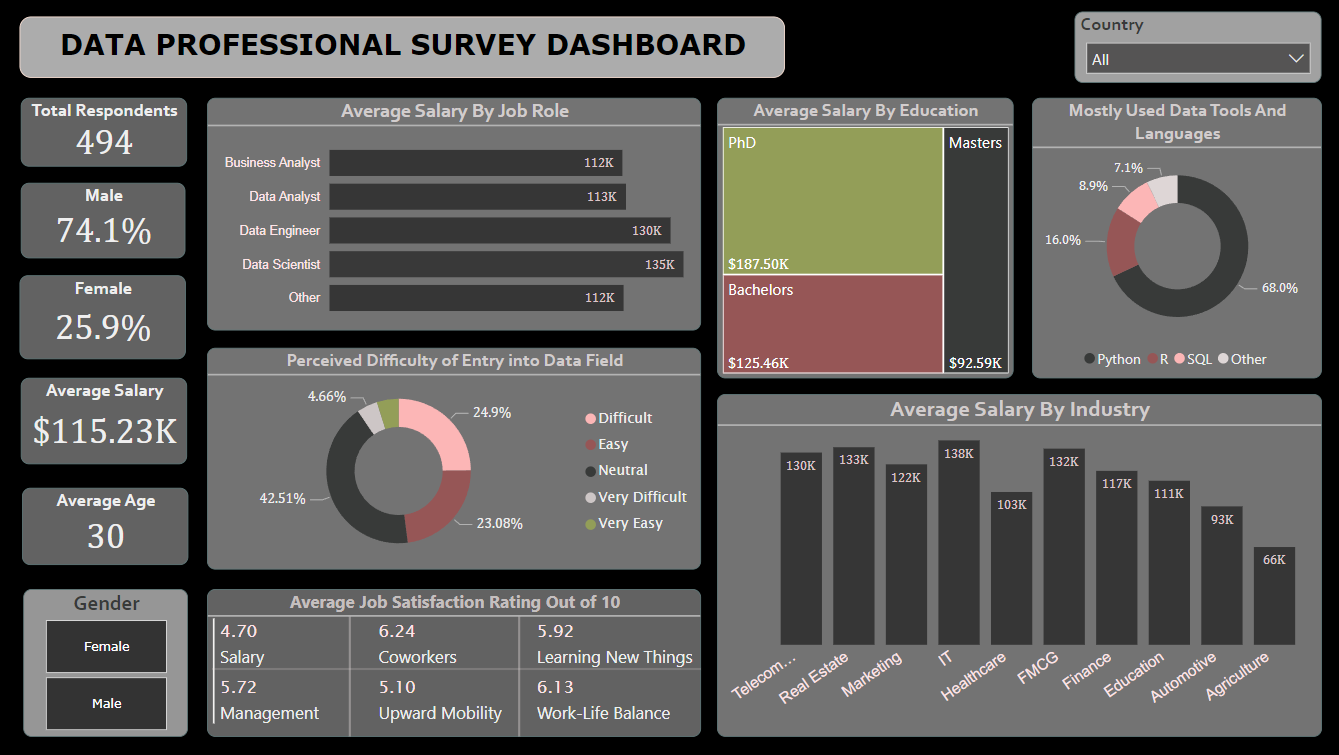

Layout of this report page (visuals, bound fields, positions):
{"tool":"powerbi","page":{"name":"Page 1","canvas":[1280,720],"ordinal":0},"visuals":[{"type":"card","title":"Total Respondents","fields":{"Values":["All Measures.total"]},"box":[22.8,93.6,158.1,65.8],"z":0},{"type":"card","title":"Male ","fields":{"Values":["All Measures.% Male"]},"box":[21.4,180.9,157.1,71.4],"z":1000},{"type":"card","title":"Female","fields":{"Values":["All Measures.% Female"]},"box":[21.4,272.5,159.5,69],"z":2000},{"type":"textbox","box":[21.5,16.4,728.7,58.2],"z":3000},{"type":"card","title":"Average Salary","fields":{"Values":["All Measures.avg salary"]},"box":[20.2,360.6,158.3,82.1],"z":4000},{"type":"barChart","title":"Average Salary By Job Role","fields":{"Y":["Avg(Data Professional Survey.salary avg)"],"Category":["Data Professional Survey.Job Role"]},"box":[199.9,93.6,470.6,221.4],"z":5000},{"type":"donutChart","title":"Mostly Used Data Tools And Languages","fields":{"Category":["Data Professional Survey.Data Tools And Languages"],"Y":["All Measures.total"]},"box":[985.5,93.6,275.8,266.9],"z":6000},{"type":"card","title":"Average Age","fields":{"Values":["All Measures.avg age"]},"box":[22.6,465.3,157.1,73.8],"z":7000},{"type":"treemap","title":"Average Salary By Education","fields":{"Group":["Data Professional Survey.Education"],"Values":["All Measures.avg salary"]},"box":[685.5,94,288,266.6],"z":8000},{"type":"multiRowCard","title":"Average Job Satisfaction Rating Out of 10","fields":{"Values":["Avg(Data Professional Survey.Q6 - How Happy are you in your Current Position with the following? (Salary))","Avg(Data Professional Survey.Q6 - How Happy are you in your Current Position with the following? (Coworkers))","Avg(Data Professional Survey.Q6 - How Happy are you in your Current Position with the following? (Learning New Things))","Avg(Data Professional Survey.Q6 - How Happy are you in your Current Position with the following? (Management))","Avg(Data Professional Survey.Q6 - How Happy are you in your Current Position with the following? (Upward Mobility))","Avg(Data Professional Survey.Q6 - How Happy are you in your Current Position with the following? (Work/Life Balance))"]},"box":[199.9,561.7,470.6,140.4],"z":9000},{"type":"slicer","title":"Country","fields":{"Values":["Data Professional Survey.Q11 - Which Country do you live in?"]},"box":[1026,11.4,235.3,68.3],"z":10000},{"type":"columnChart","title":"Average Salary By Industry","fields":{"Category":["Data Professional Survey.Industry"],"Y":["All Measures.avg salary"]},"box":[685.7,375.7,575.6,326.4],"z":11000},{"type":"pieChart","title":"Perceived Difficulty of Entry into Data Field","fields":{"Category":["Data Professional Survey.Q7 - How difficult was it for you to break into Data?"],"Y":["All Measures.total"]},"box":[199.9,331.4,470.6,211.3],"z":12000},{"type":"shape","box":[330.1,587.9,12.5,114.2],"z":13000},{"type":"shape","box":[491.5,587.9,11.3,114.2],"z":14000},{"type":"shape","box":[204.7,633.1,465.3,11.9],"z":15000},{"type":"slicer","title":"Gender","fields":{"Values":["Data Professional Survey.Q9 - Male/Female?"]},"box":[25.3,561.7,156.9,140.4],"z":16000}]}

Visuals, with their boxes in screenshot pixels (x1, y1, x2, y2), scaled from the page's 1280x720 canvas onto the 1339x755 screenshot:
"Total Respondents" card: left=24, top=98, right=189, bottom=167
"Male " card: left=22, top=190, right=187, bottom=265
"Female" card: left=22, top=286, right=189, bottom=358
textbox: left=22, top=17, right=785, bottom=78
"Average Salary" card: left=21, top=378, right=187, bottom=464
"Average Salary By Job Role" barChart: left=209, top=98, right=701, bottom=330
"Mostly Used Data Tools And Languages" donutChart: left=1031, top=98, right=1319, bottom=378
"Average Age" card: left=24, top=488, right=188, bottom=565
"Average Salary By Education" treemap: left=717, top=99, right=1018, bottom=378
"Average Job Satisfaction Rating Out of 10" multiRowCard: left=209, top=589, right=701, bottom=736
"Country" slicer: left=1073, top=12, right=1319, bottom=84
"Average Salary By Industry" columnChart: left=717, top=394, right=1319, bottom=736
"Perceived Difficulty of Entry into Data Field" pieChart: left=209, top=348, right=701, bottom=569
shape: left=345, top=616, right=358, bottom=736
shape: left=514, top=616, right=526, bottom=736
shape: left=214, top=664, right=701, bottom=676
"Gender" slicer: left=26, top=589, right=191, bottom=736
